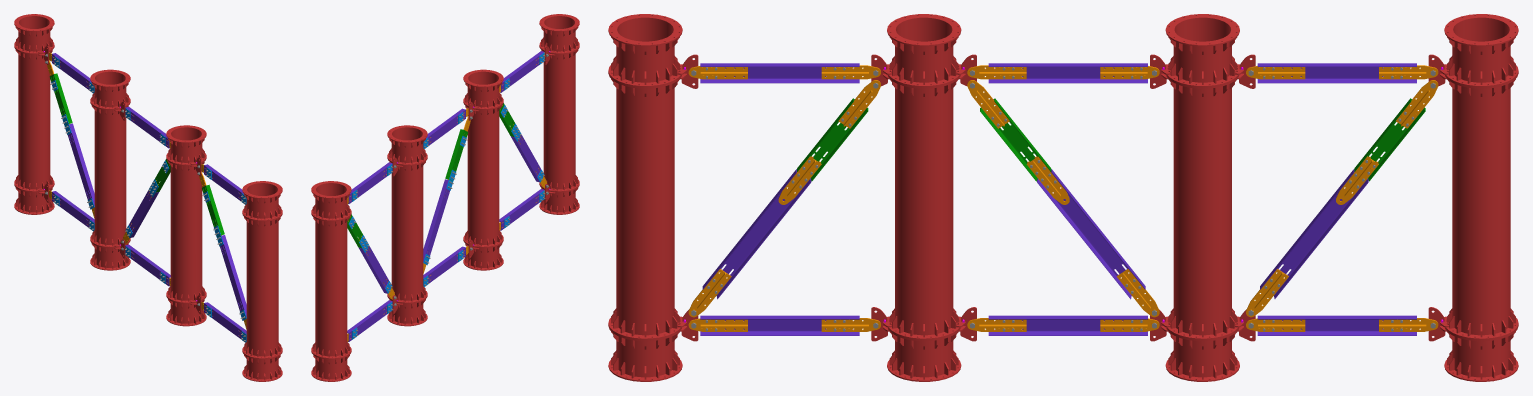
3 views of the same model, side by side, from view 1: azimuth 30°, elevation 25°; view 2: azimuth 150°, elevation 25°; view 3: azimuth 270°, elevation 25° (orthographic). The views are drawn at different scales.
Visible parts, largest first — view 1: Admi3C34E21Dko4x; view 2: Admi3C34E21Dko4x; view 3: Admi3C34E21Dko4x.
Boxes of the visible parts, x1,y1,x2,y2 form: Admi3C34E21Dko4x: (14, 14, 282, 381); Admi3C34E21Dko4x: (311, 14, 579, 381); Admi3C34E21Dko4x: (608, 14, 1518, 381).
Size of the model in its own units: 0.7964 by 4 by 9.8.
